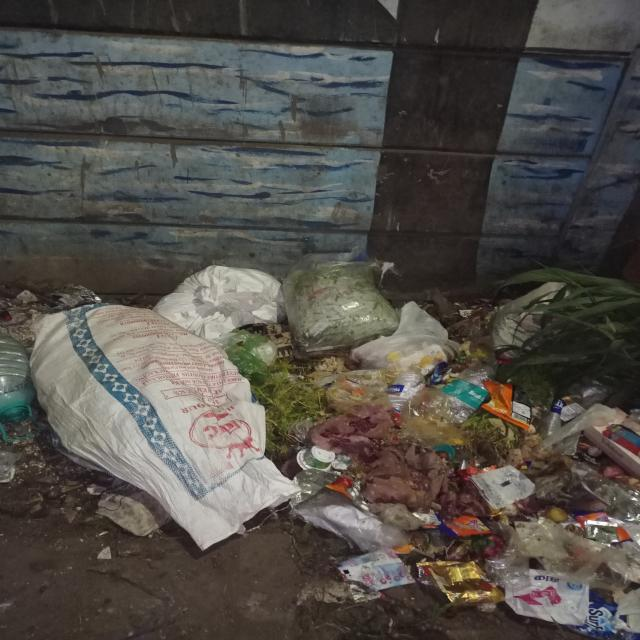garbage: (17, 274, 640, 628)
